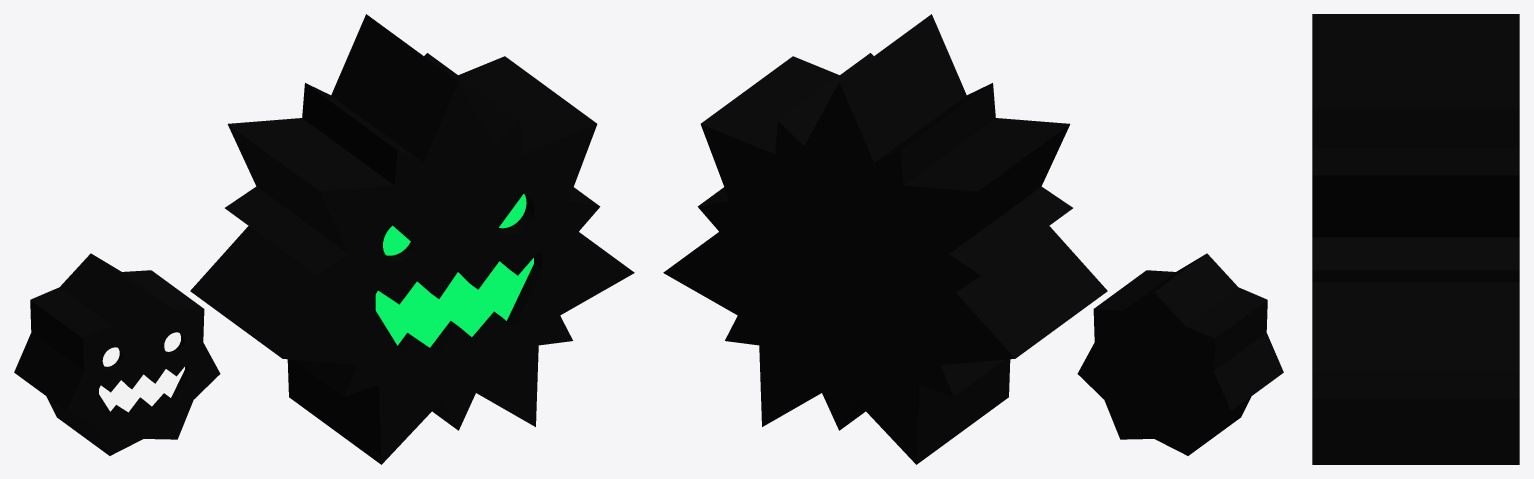
File: thorn and cursed thorn.glb
3 views of the same model, side by side, from view 1: azimuth 30°, elevation 25°; view 2: azimuth 150°, elevation 25°; view 3: azimuth 270°, elevation 25° (orthographic). The views are drawn at different scales.
Visible parts, largest first — view 1: Cube.001, Cube; view 2: Cube.001, Cube; view 3: Cube.001.
Boxes of the visible parts, x1,y1,x2,y2 form: Cube.001: (190,14,634,464); Cube: (14,253,220,455); Cube.001: (663,14,1107,464); Cube: (1077,253,1283,455); Cube.001: (1312,14,1519,464).
Size of the model in its own units: 16.16 by 10.27 by 4.73.
